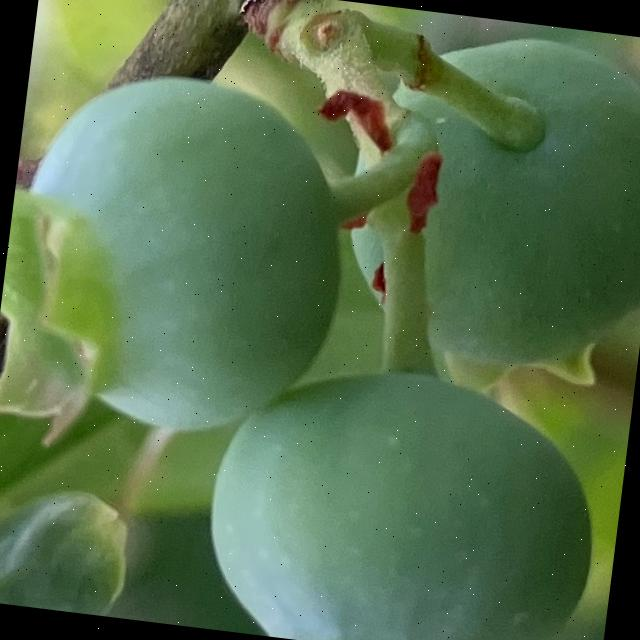Blueberries: (0, 54, 360, 489), (181, 320, 623, 640)
